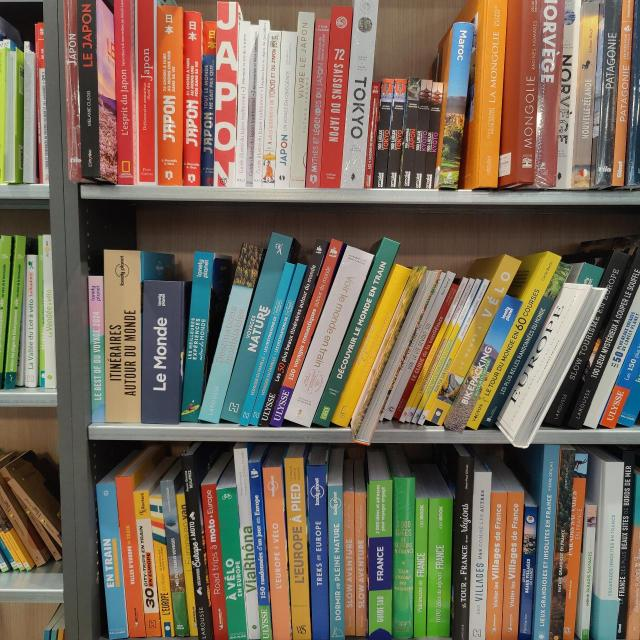book: (466, 251, 561, 430), (283, 245, 374, 427), (313, 238, 400, 427), (427, 254, 521, 425), (480, 261, 573, 429), (544, 249, 631, 426), (221, 232, 293, 423), (270, 239, 343, 426), (331, 264, 411, 428), (259, 238, 327, 426), (569, 248, 640, 428), (198, 242, 264, 424), (445, 295, 523, 433), (417, 278, 490, 425), (385, 271, 456, 421), (411, 279, 482, 424), (399, 276, 469, 423), (405, 278, 475, 423), (380, 272, 447, 420), (249, 263, 307, 425), (239, 261, 295, 426), (394, 282, 459, 419), (584, 286, 639, 430), (340, 0, 379, 189), (104, 250, 141, 423), (320, 5, 353, 188), (142, 280, 183, 425), (439, 23, 475, 188), (534, 0, 565, 185), (181, 250, 214, 422), (182, 455, 212, 640), (478, 0, 507, 187), (262, 467, 291, 640), (595, 0, 622, 185), (549, 449, 575, 640), (96, 484, 128, 639), (234, 449, 260, 639), (535, 444, 560, 640), (555, 0, 581, 188), (116, 477, 146, 638), (573, 3, 599, 188), (285, 458, 311, 640), (217, 488, 248, 640), (160, 480, 190, 636), (213, 1, 238, 188), (598, 462, 624, 640), (563, 453, 587, 640), (134, 0, 158, 184), (290, 12, 315, 187), (158, 5, 182, 186), (612, 0, 635, 186), (249, 462, 273, 640), (600, 323, 640, 429), (517, 0, 540, 184), (305, 19, 330, 187), (306, 466, 330, 640), (77, 0, 100, 178), (202, 484, 228, 640), (453, 456, 474, 640), (135, 490, 161, 637), (469, 471, 491, 640), (427, 498, 453, 636), (149, 495, 174, 636), (114, 0, 133, 185), (370, 481, 392, 640), (275, 32, 297, 187), (501, 492, 524, 640), (4, 236, 26, 390), (183, 10, 202, 185), (64, 0, 82, 180), (394, 478, 414, 640), (485, 493, 507, 640), (618, 451, 635, 640), (261, 30, 281, 188), (176, 494, 198, 635), (200, 21, 217, 186), (327, 485, 345, 640), (235, 20, 251, 188), (518, 506, 538, 640), (254, 20, 269, 188), (385, 79, 407, 188), (88, 276, 104, 423), (245, 24, 259, 187), (401, 78, 421, 188), (374, 79, 394, 188), (424, 82, 444, 188), (582, 505, 597, 639), (43, 235, 56, 389), (415, 498, 429, 637), (415, 80, 433, 188), (365, 80, 382, 189), (23, 255, 36, 387), (355, 493, 366, 636), (344, 493, 355, 635)
